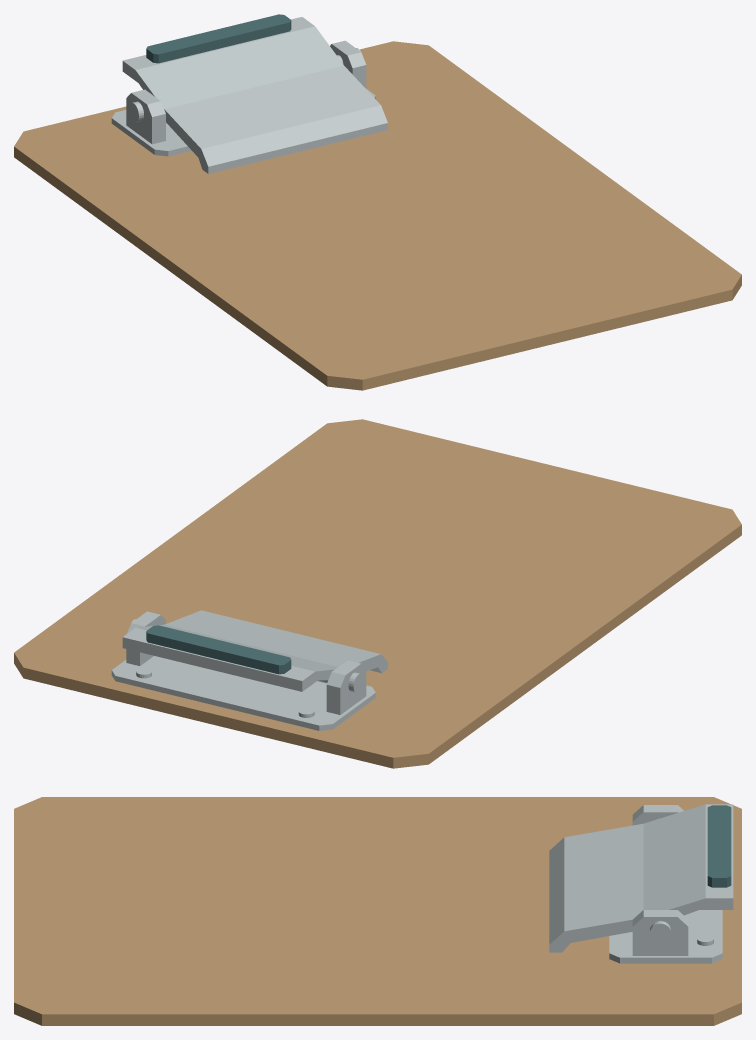
The picture shows the model from 3 angles, top to bottom: view 1: azimuth 30°, elevation 25°; view 2: azimuth 150°, elevation 25°; view 3: azimuth 270°, elevation 25°; orthographic projection. The views are drawn at different scales.
Visible parts, largest first — view 1: WholeBlankChamferedWritingBoard, WholeBroadBentPressurePlate, WholeRearTabPad, WholeUprightHingeEar_-1, WholeRearMountingPlate, WholeUprightHingeEar_1; view 2: WholeBlankChamferedWritingBoard, WholeBroadBentPressurePlate, WholeRearMountingPlate, WholeRearTabPad, WholeUprightHingeEar_-1, WholeUprightHingeEar_1; view 3: WholeBlankChamferedWritingBoard, WholeBroadBentPressurePlate, WholeRearMountingPlate, WholeUprightHingeEar_1, WholeRearTabPad, WholeUprightHingeEar_-1, WholeRetainedTransversePin.
Boxes of the visible parts, x1,y1,x2,y2 form: WholeBlankChamferedWritingBoard: (14,41,741,390); WholeBroadBentPressurePlate: (122,17,387,173); WholeRearTabPad: (146,14,291,63); WholeUprightHingeEar_-1: (126,89,165,144); WholeRearMountingPlate: (111,89,375,156); WholeUprightHingeEar_1: (330,40,366,88); WholeBlankChamferedWritingBoard: (14,419,741,768); WholeBroadBentPressurePlate: (122,610,387,691); WholeRearMountingPlate: (111,656,375,730); WholeRearTabPad: (146,625,291,674); WholeUprightHingeEar_-1: (326,660,366,714); WholeUprightHingeEar_1: (126,611,165,665); WholeBlankChamferedWritingBoard: (14,797,741,1025); WholeBroadBentPressurePlate: (549,804,733,952); WholeRearMountingPlate: (609,910,722,963); WholeUprightHingeEar_1: (632,910,688,955); WholeRearTabPad: (707,805,731,887); WholeUprightHingeEar_-1: (632,805,683,825); WholeRetainedTransversePin: (650,818,671,942).
Size of the model in its own units: 0.24 by 0.039 by 0.34.
